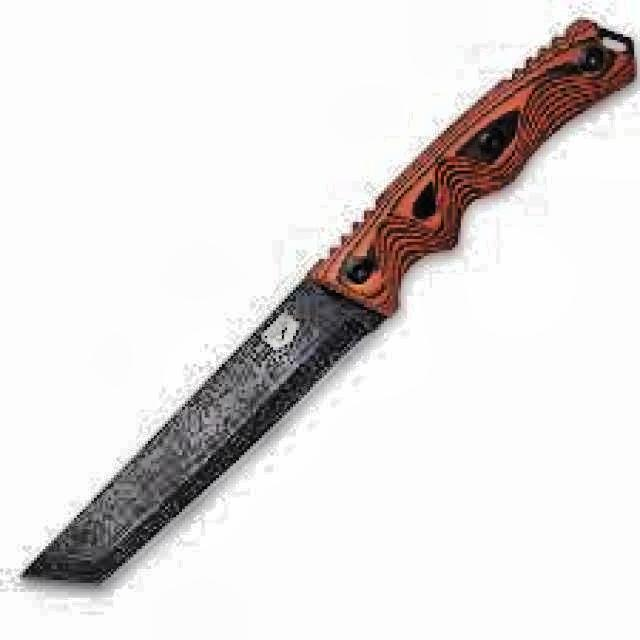knife: (13, 9, 640, 597)
